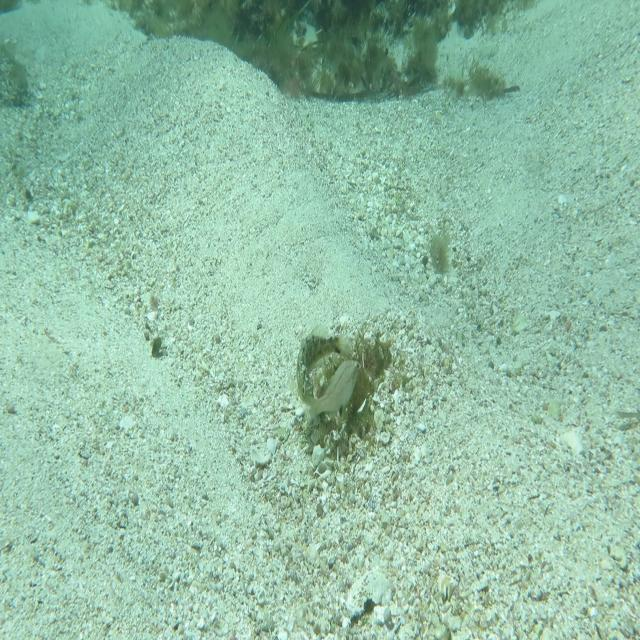BEND: (294, 323, 359, 414)
female: (298, 356, 364, 427)
nest: (287, 316, 398, 451)
vegetation: (131, 0, 527, 32), (261, 37, 440, 94), (428, 215, 456, 269)
